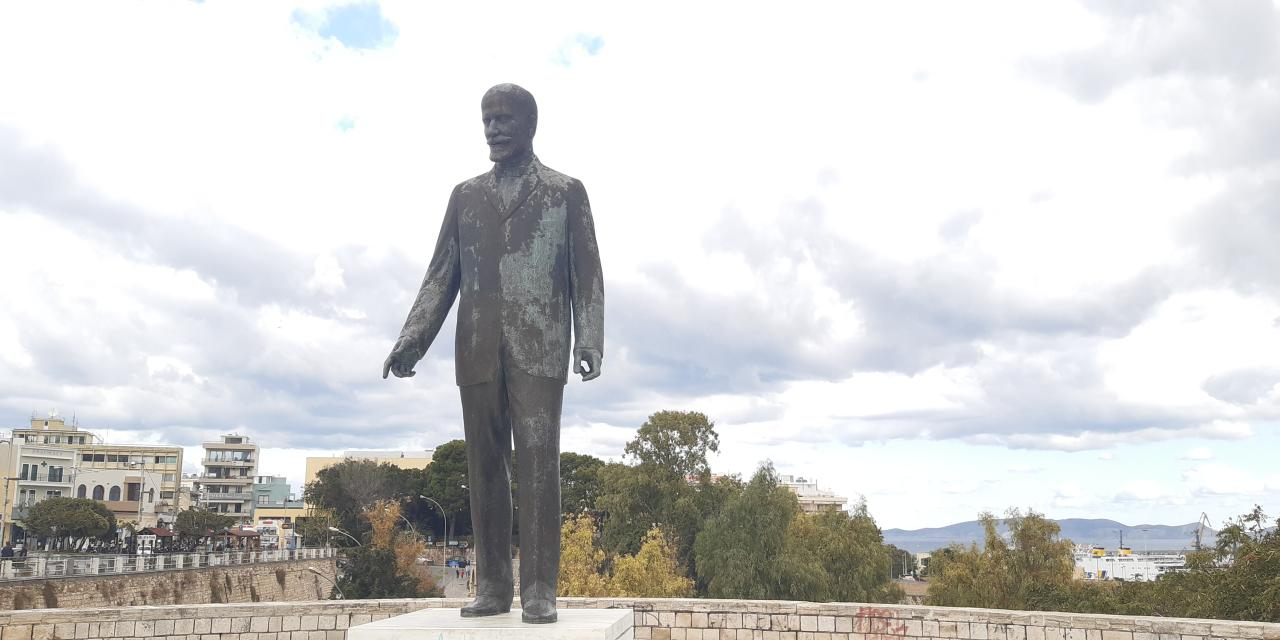Venizelos: (383, 86, 610, 623)
